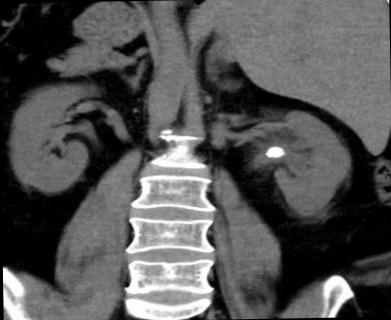Tas_Var: (261, 144, 288, 160)
